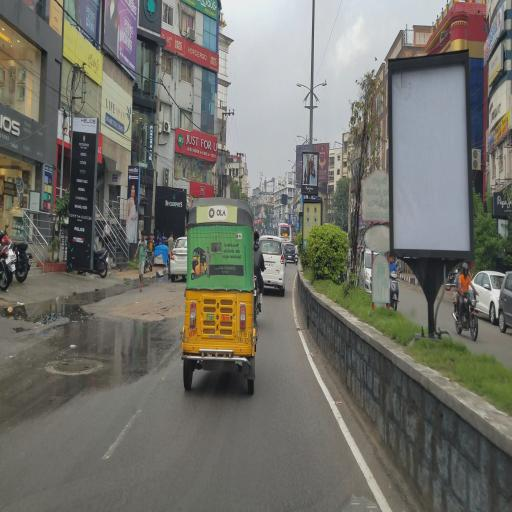street_light_0: (291, 71, 310, 107), (310, 76, 334, 96)
